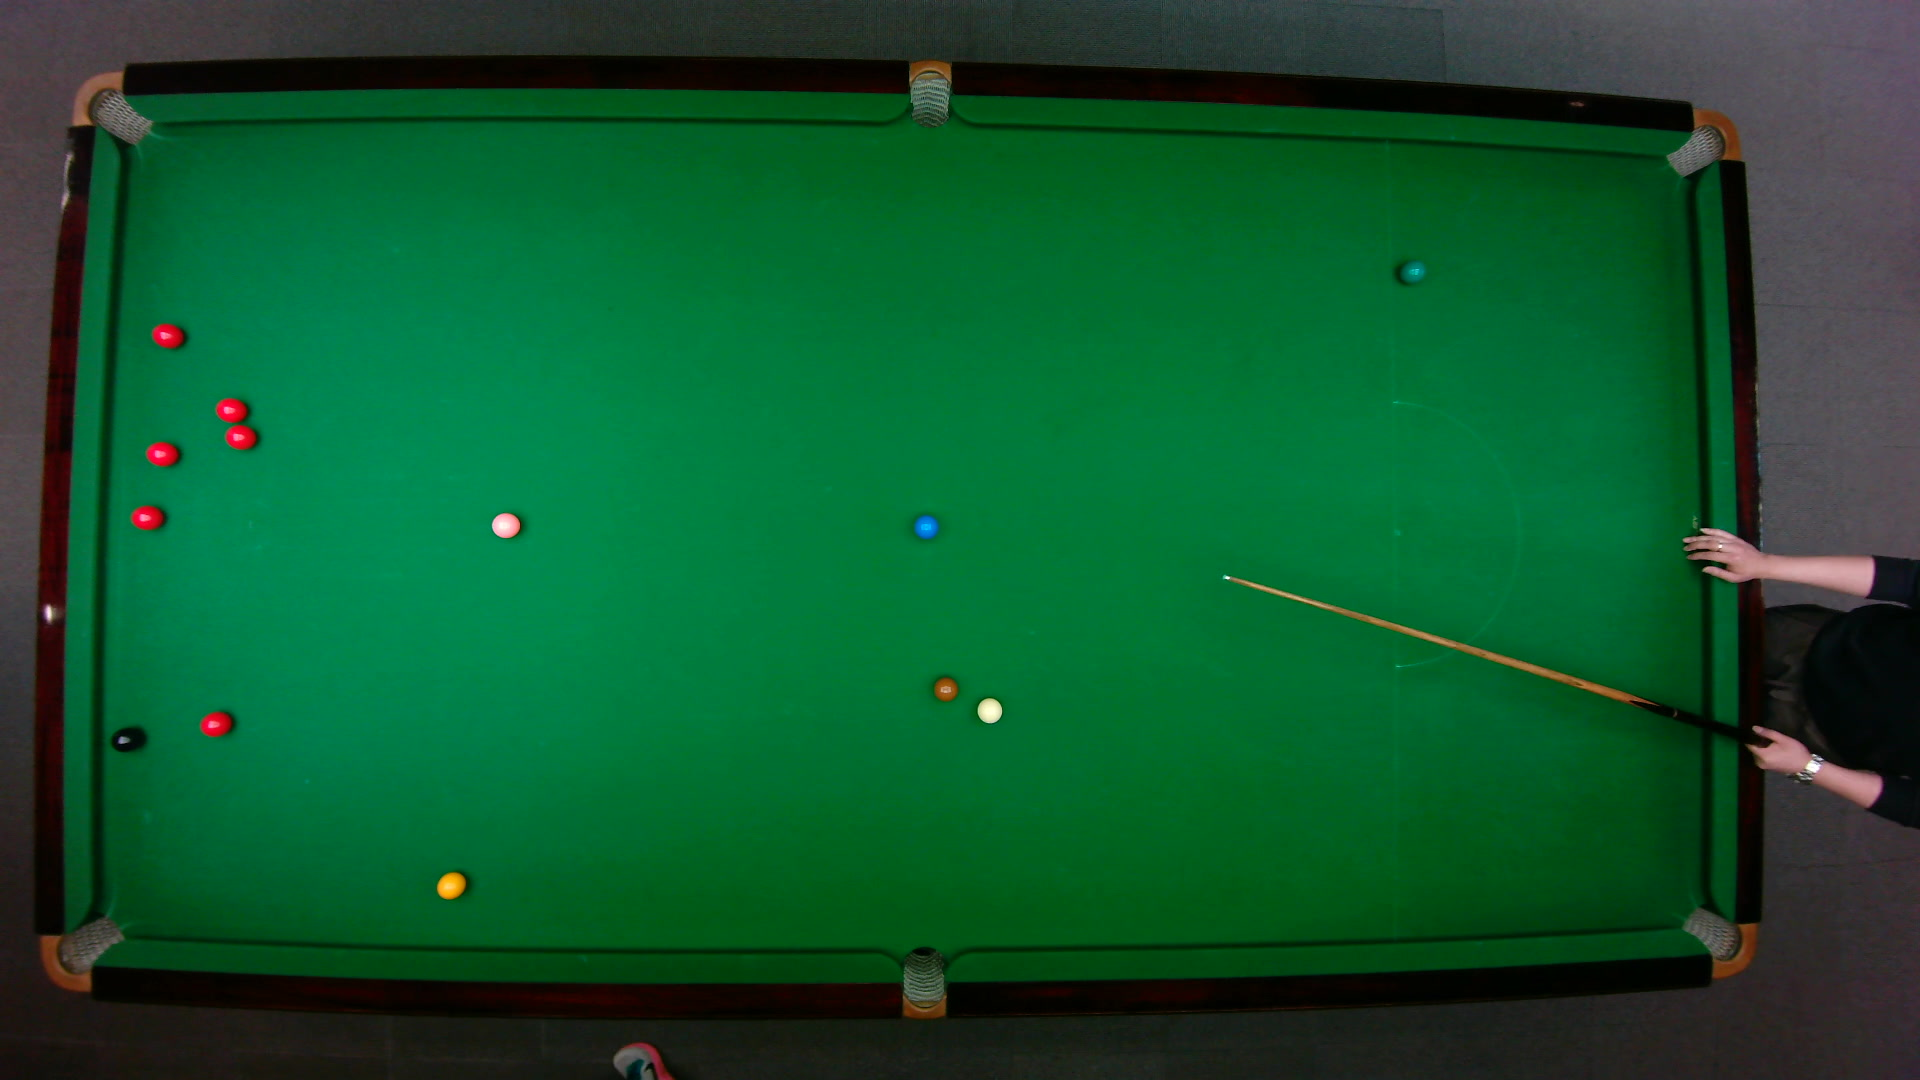bag: (38, 914, 127, 993), (70, 70, 154, 146), (1679, 905, 1758, 978), (1664, 107, 1741, 179), (902, 945, 944, 1021), (909, 58, 951, 129), (611, 1040, 669, 1079)
black: (109, 727, 141, 753)
blue: (913, 513, 940, 541)
brown: (934, 676, 959, 702)
cue: (1221, 574, 1751, 744)
green: (1398, 258, 1425, 285)
pink: (491, 512, 522, 541)
red: (199, 709, 233, 738), (214, 396, 249, 423), (150, 322, 186, 349), (145, 440, 179, 468), (129, 504, 165, 530), (224, 425, 258, 451)
white: (975, 696, 1004, 725)
yellow: (435, 870, 468, 901)
zone: (1391, 400, 1520, 669)
